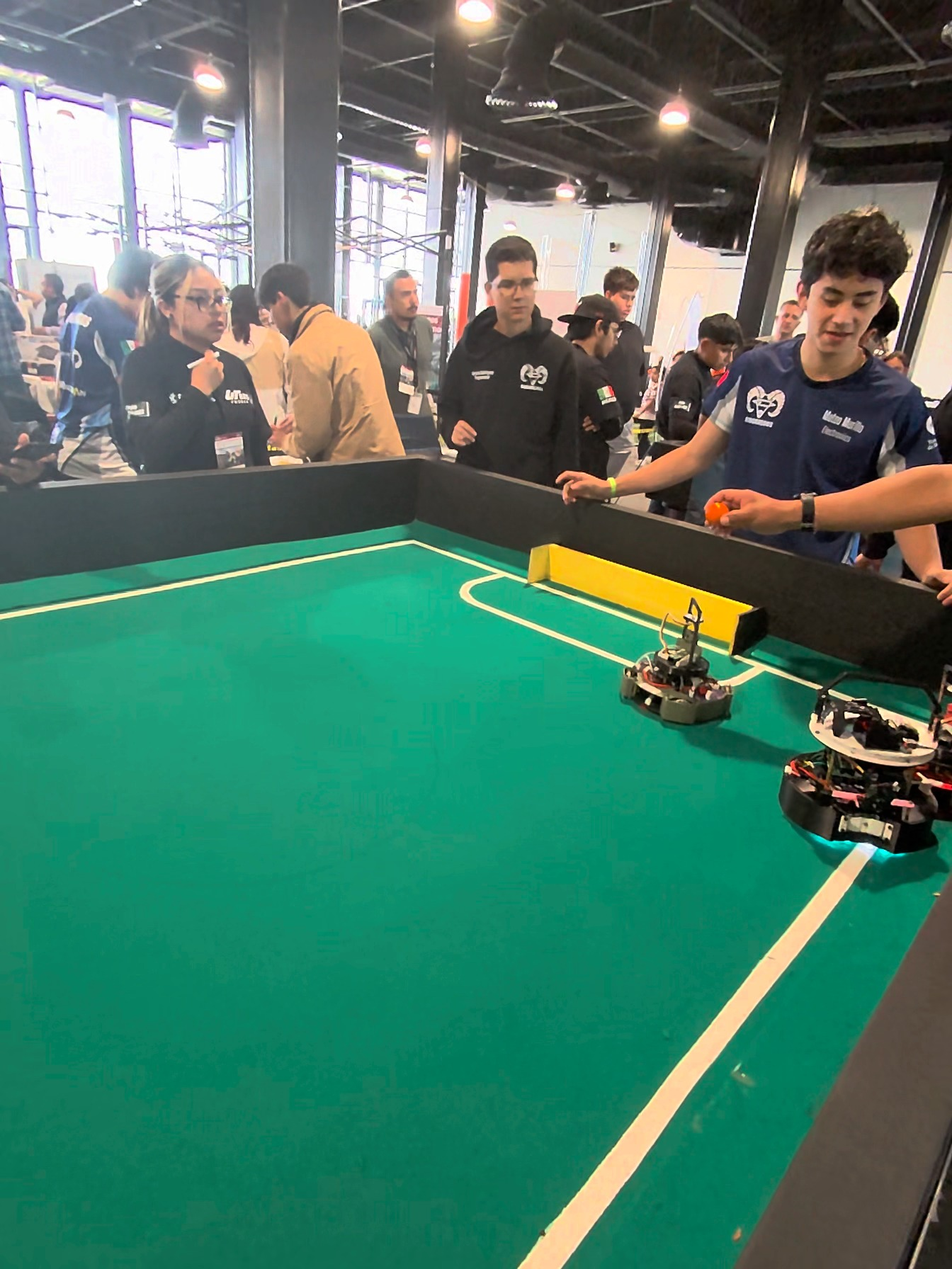Robot: (770, 676, 924, 886), (621, 600, 731, 733), (926, 650, 952, 815)
